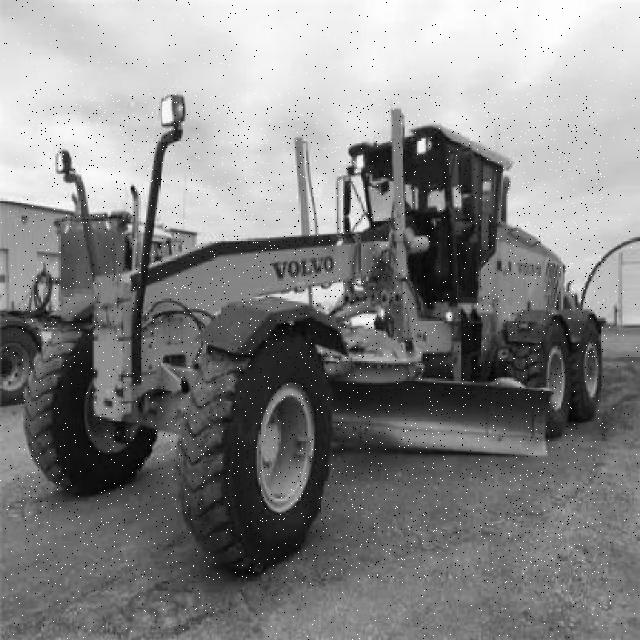Construction Equipment: (22, 93, 603, 578)
